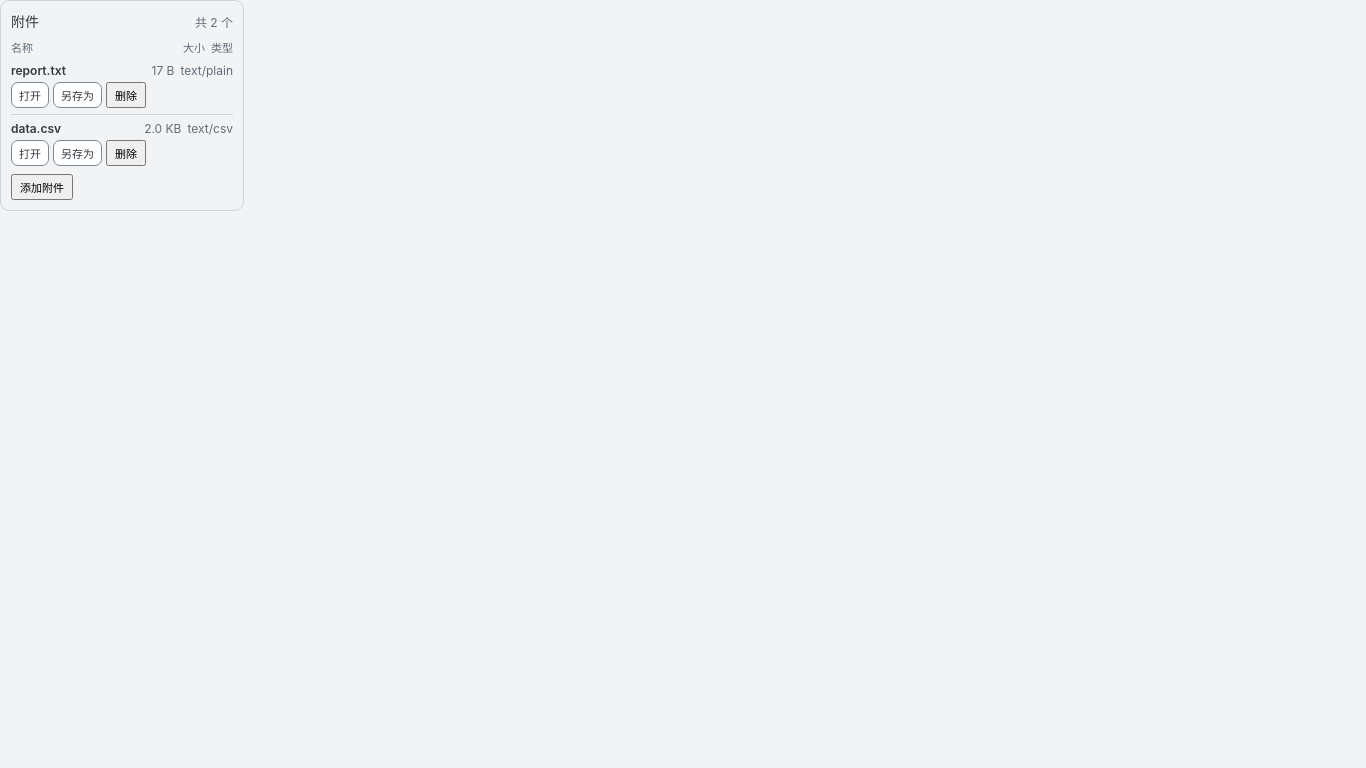
Test: AttachmentPanel › opens an attachment only after the unsafe-file confirmation
Click the button with aria-label "打开 report.txt" at (30, 95), box [11,82,49,108]
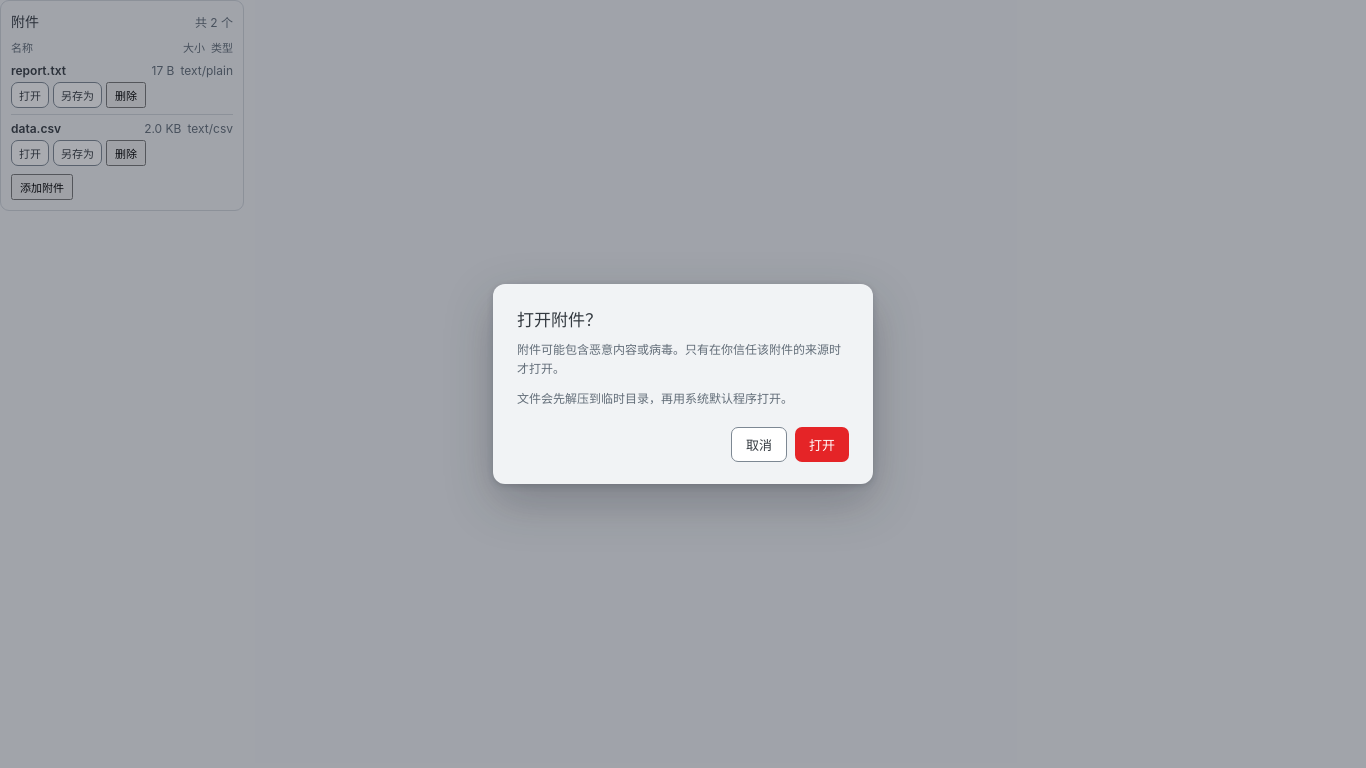
Expected: the dialog "打开附件？" shows "附件可能包含恶意内容或病毒", [517,342,841,376]
Click the button "取消" at (759, 444), box [731,427,787,462]
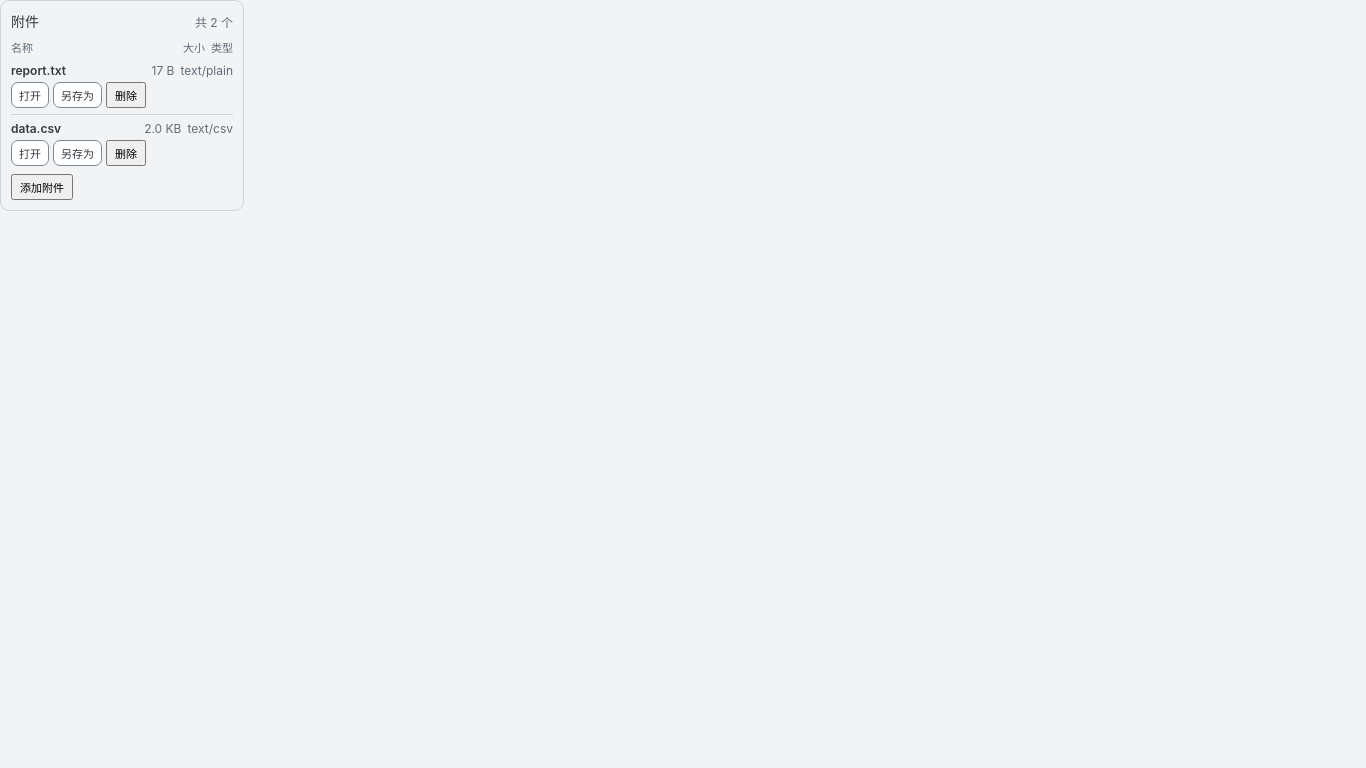
Click the button with aria-label "打开 report.txt" at (30, 95), box [11,82,49,108]
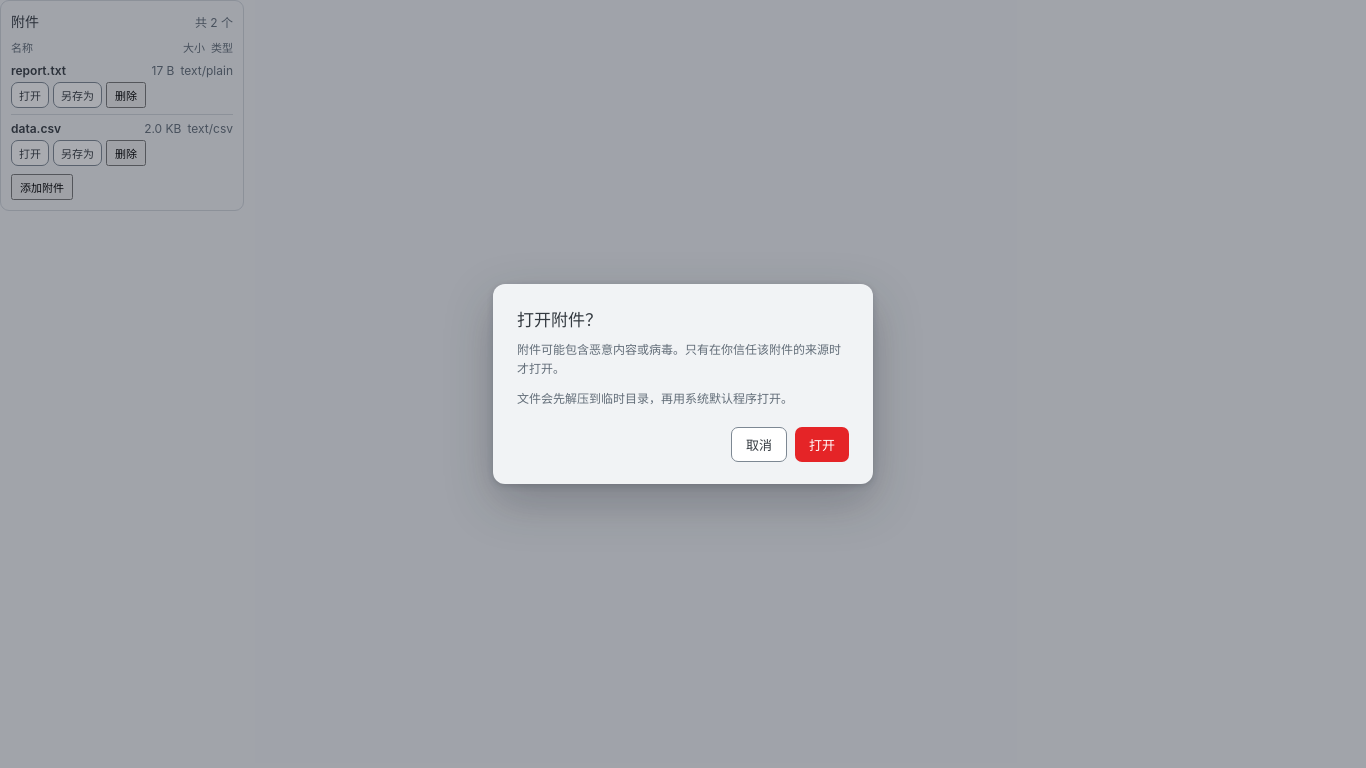
Click the button "打开" at (822, 444), box [795,427,849,462]
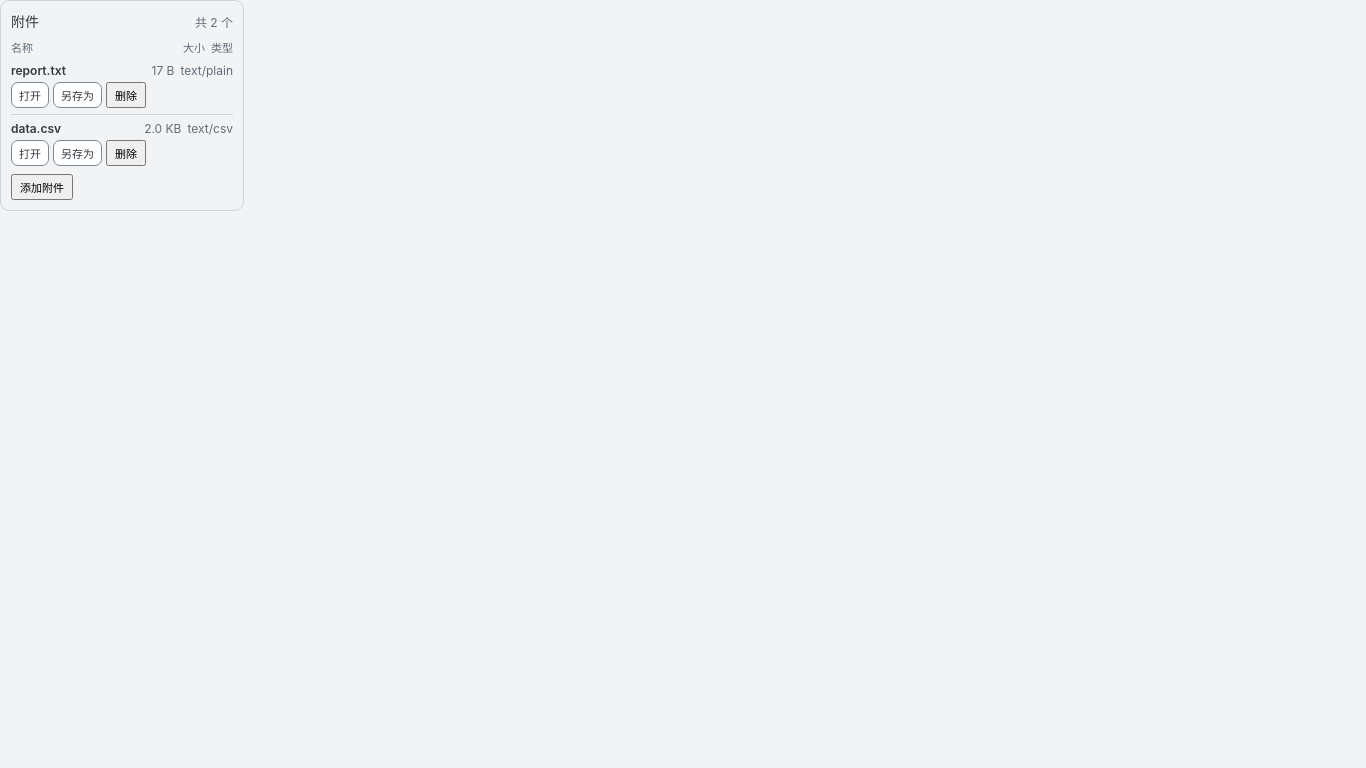
Expected: the dialog is gone
